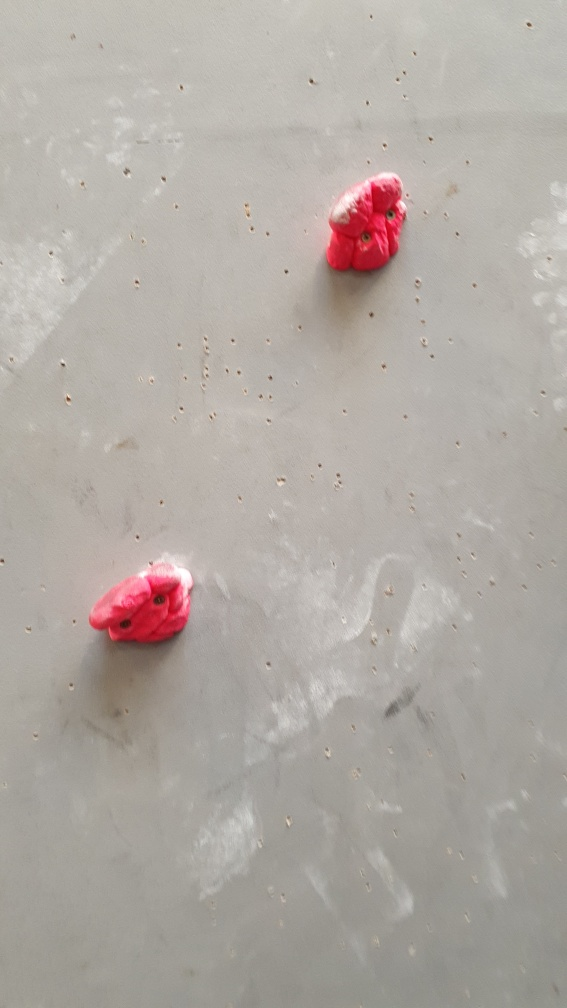Jug: (90, 561, 199, 648), (324, 171, 412, 274)
